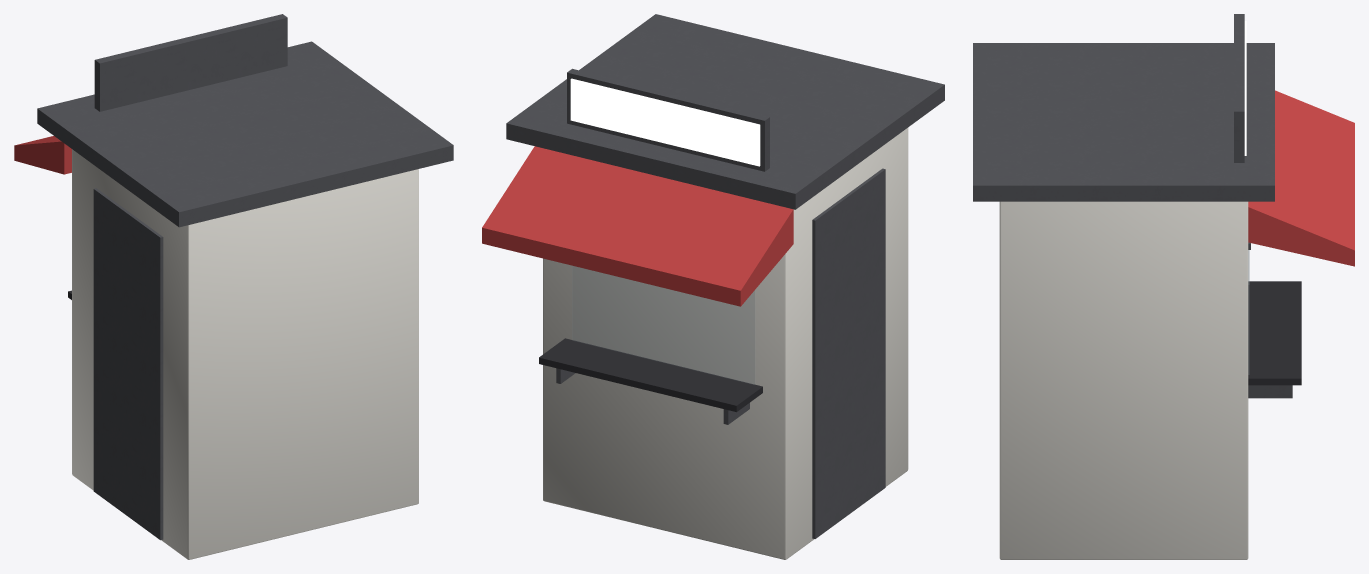
Rendered from ticket_booth.gltf.
The picture shows the model from 3 angles, left to right: view 1: azimuth 30°, elevation 25°; view 2: azimuth 150°, elevation 25°; view 3: azimuth 270°, elevation 25°; orthographic projection. The views are drawn at different scales.
Visible parts, largest first — view 1: ticket_booth; view 2: ticket_booth; view 3: ticket_booth.
Boxes of the visible parts, x1=… form: ticket_booth: x1=14, y1=14, x2=453, y2=559; ticket_booth: x1=482, y1=14, x2=944, y2=559; ticket_booth: x1=973, y1=14, x2=1354, y2=559.
Size of the model in its own units: 1.9 by 2.72 by 2.15.
Materials: 6 (1 with a texture image).
